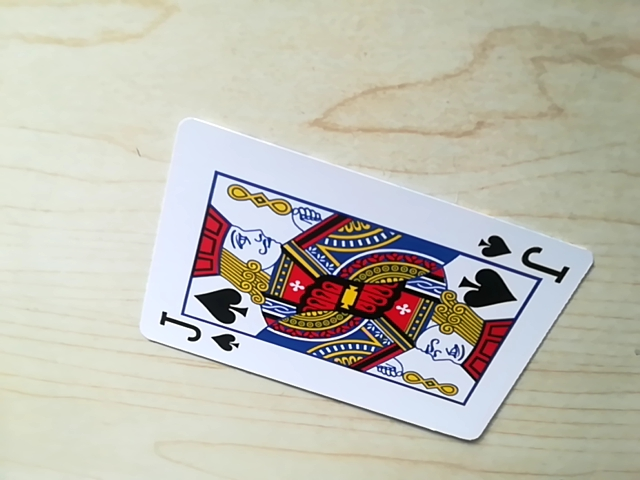ht j: (469, 227, 568, 272), (156, 319, 246, 354)
